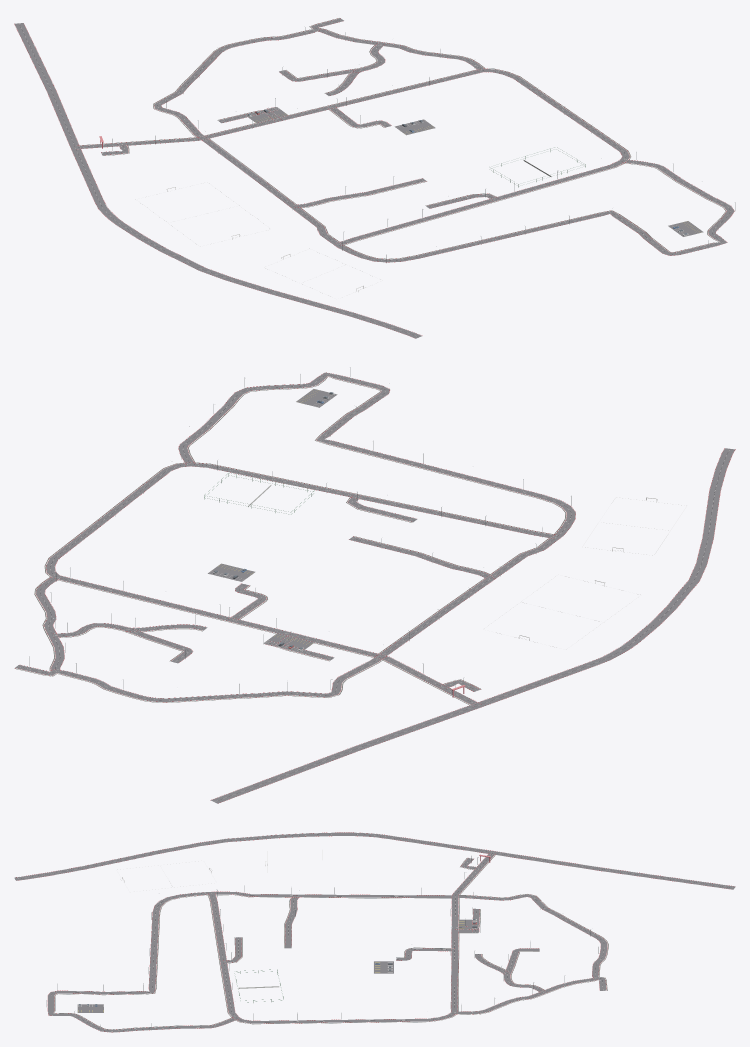
Rendered from campus-props-realistic.glb.
3 views of the same model, one above another, from view 1: azimuth 30°, elevation 25°; view 2: azimuth 150°, elevation 25°; view 3: azimuth 270°, elevation 25° (orthographic). The views are drawn at different scales.
Visible parts, largest first — view 1: campus_props; view 2: campus_props; view 3: campus_props.
Part boxes in pixels (bbox=[...]): campus_props: bbox=[14, 14, 735, 338]; campus_props: bbox=[14, 367, 735, 803]; campus_props: bbox=[14, 832, 735, 1032].
Size of the model in its own units: 431 by 7.5 by 657.
Materials: 20 (3 with a texture image).
